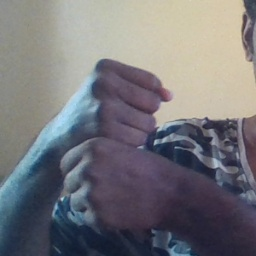G: (60, 53, 178, 242)
